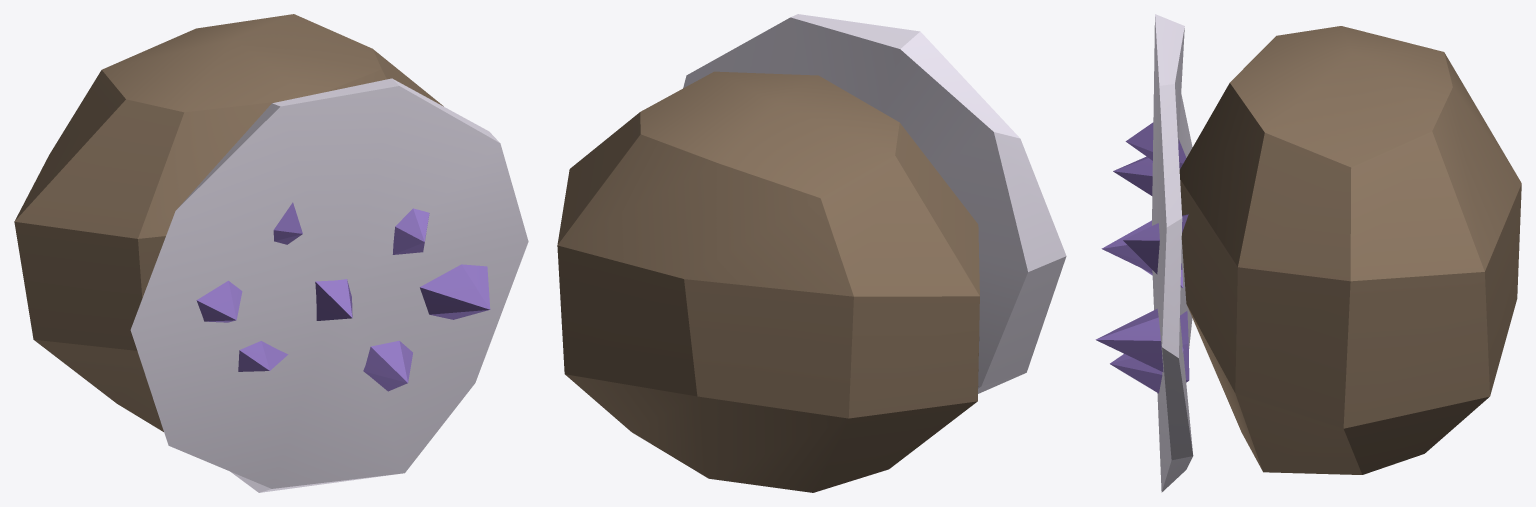
File: find_geode.glb
3 renders of one model, left to right at view 1: azimuth 30°, elevation 25°; view 2: azimuth 150°, elevation 25°; view 3: azimuth 270°, elevation 25°, orthographic. The views are drawn at different scales.
Parts seen in each view (by area): view 1: find_geode; view 2: find_geode; view 3: find_geode.
Part boxes in pixels (box(x1,y1,x2,y2)): find_geode: box(14, 14, 528, 492); find_geode: box(557, 14, 1066, 492); find_geode: box(1095, 14, 1521, 492).
Bounding box in the file's own units: 0.0965 × 0.0864 × 0.0806.
